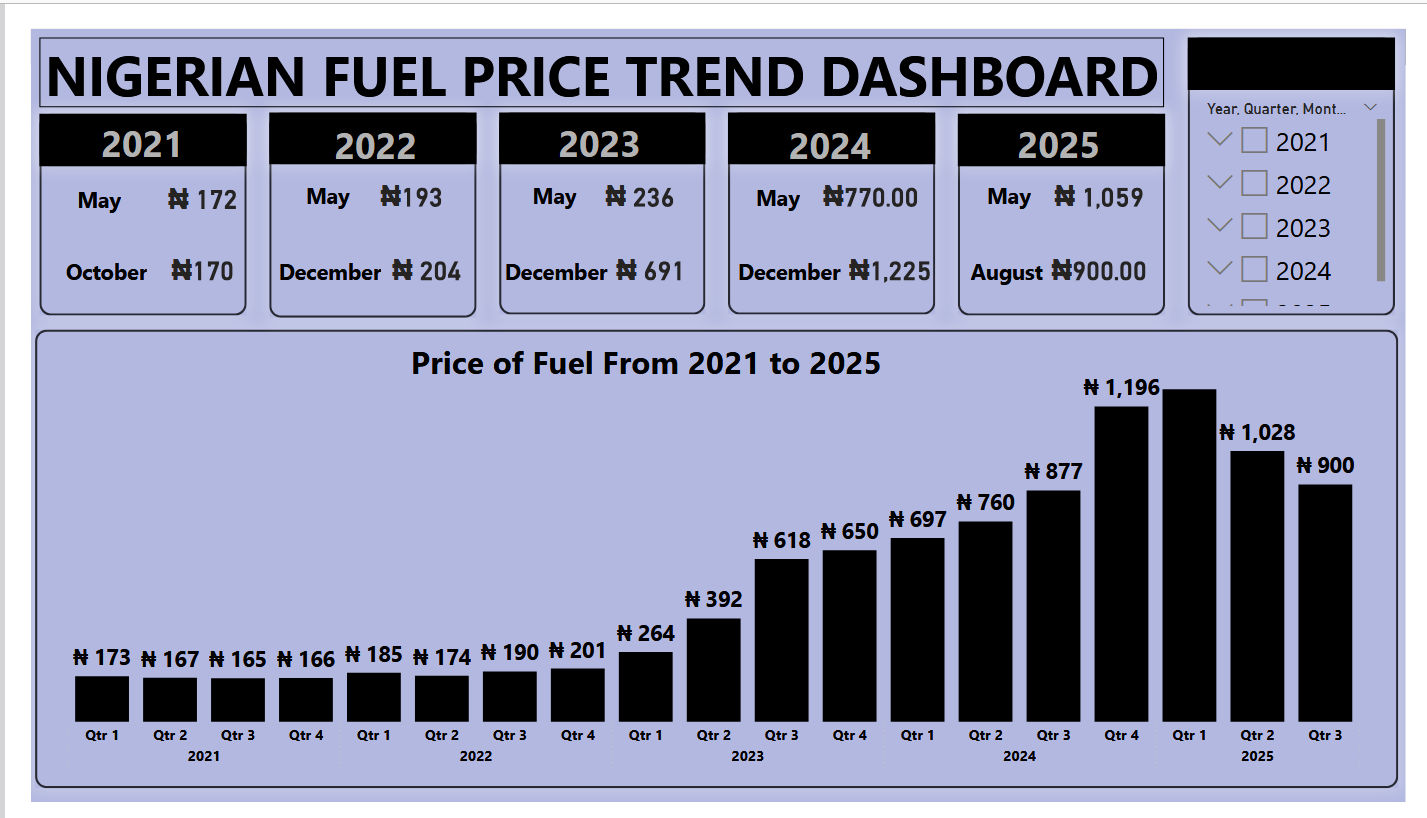

This screenshot's page, from the dashboard's own definition file:
{"tool":"powerbi","page":{"name":"Page 1","canvas":[1280,720],"ordinal":0},"visuals":[{"type":"shape","box":[4,280,1268.8,426.9],"z":0},{"type":"shape","box":[8.1,79.3,192.7,187.8],"z":1000},{"type":"shape","box":[221.8,79.3,192.7,189.4],"z":2000},{"type":"shape","box":[435.6,77.7,192.7,187.8],"z":3000},{"type":"shape","box":[649.3,77.7,192.7,187.8],"z":4000},{"type":"shape","box":[863,79.3,192.7,187.8],"z":5000},{"type":"shape","box":[1077.5,8.1,192.4,259.2],"z":6000},{"type":"shape","box":[1077.5,8.1,192.4,48.6],"z":7000},{"type":"shape","box":[863,79.3,192.7,48.6],"z":8000},{"type":"shape","box":[649.3,77.7,192.7,48.6],"z":9000},{"type":"shape","box":[435.6,77.7,192.7,48.6],"z":10000},{"type":"shape","box":[221.8,77.7,192.7,48.6],"z":11000},{"type":"shape","box":[8.1,79.3,192.7,48.6],"z":12000},{"type":"clusteredColumnChart","fields":{"Category":["Motor Spirit.Date.Variation.Date Hierarchy.Year","Motor Spirit.Date.Variation.Date Hierarchy.Quarter","Motor Spirit.Date.Variation.Date Hierarchy.Month","Motor Spirit.Date.Variation.Date Hierarchy.Day"],"Y":["Avg(Motor Spirit.Fuel Price)"]},"box":[11.3,286.6,1250,412.9],"z":13000},{"type":"card","fields":{"Values":["Avg(May-2021.Fuel Price)"]},"box":[99.2,127.6,121.5,60.8],"z":14000},{"type":"card","fields":{"Values":["Avg(October-2021.Fuel Price)"]},"box":[99.2,194.4,121.5,60.8],"z":15000},{"type":"card","fields":{"Values":["Avg(May-2022.Fuel Price)"]},"box":[293.7,125.6,121.5,60.8],"z":16000},{"type":"card","fields":{"Values":["Avg(December-2022.Fuel Price)"]},"box":[307.8,194.4,121.5,60.8],"z":17000},{"type":"card","fields":{"Values":["Avg(May-2023.Fuel Price)"]},"box":[506.3,125.6,121.5,60.8],"z":18000},{"type":"card","fields":{"Values":["Avg(December-2023.Fuel Price)"]},"box":[516.5,194.4,121.5,60.8],"z":19000},{"type":"card","fields":{"Values":["Avg(May-2024.Fuel Price)"]},"box":[721,125.6,121.5,60.8],"z":20000},{"type":"card","fields":{"Values":["Avg(December-2024.Fuel Price)"]},"box":[739.2,194.4,121.5,60.8],"z":21000},{"type":"card","fields":{"Values":["Avg(May-2025.Fuel Price)"]},"box":[933.7,125.6,121.5,60.8],"z":22000},{"type":"card","fields":{"Values":["Avg(August-2025.Fuel Price)"]},"box":[933.7,194.4,121.5,60.8],"z":23000},{"type":"actionButton","box":[10.1,79,188.4,46.6],"z":24000},{"type":"actionButton","box":[435.4,79,188.4,46.6],"z":25000},{"type":"actionButton","box":[226.8,81,188.4,46.6],"z":26000},{"type":"actionButton","box":[650.1,81,188.4,46.6],"z":27000},{"type":"actionButton","box":[864.8,133.7,91.1,40.5],"z":28000},{"type":"actionButton","box":[862.8,204.6,91.1,40.5],"z":29000},{"type":"actionButton","box":[650.1,135.7,91.1,40.5],"z":30000},{"type":"actionButton","box":[445.6,133.7,83,40.5],"z":31000},{"type":"actionButton","box":[234.9,133.7,83,40.5],"z":32000},{"type":"actionButton","box":[222.8,204.6,111.4,40.5],"z":33000},{"type":"actionButton","box":[22.3,137.7,83,40.5],"z":34000},{"type":"actionButton","box":[22.3,204.6,97.2,40.5],"z":35000},{"type":"actionButton","box":[433.4,204.6,111.4,40.5],"z":36000},{"type":"actionButton","box":[650.1,204.6,111.4,40.5],"z":37000},{"type":"shape","box":[8.1,8.1,1047.1,64.8],"z":38000},{"type":"slicer","fields":{"Values":["Motor Spirit.Date.Variation.Date Hierarchy.Year","Motor Spirit.Date.Variation.Date Hierarchy.Quarter","Motor Spirit.Date.Variation.Date Hierarchy.Month","Motor Spirit.Date.Variation.Date Hierarchy.Day"]},"box":[1081.5,60.8,184.3,202.5],"z":39000},{"type":"actionButton","box":[318,279.5,510.4,58.7],"z":40000},{"type":"actionButton","box":[863,80,188,47],"z":40001}]}

Visuals, with their boxes in screenshot pixels (x1, y1, x2, y2), scaled from the page's 1280x720 canvas onto the 1427x818 screenshot:
shape: bbox=[4, 318, 1419, 803]
shape: bbox=[9, 90, 224, 303]
shape: bbox=[247, 90, 462, 305]
shape: bbox=[486, 88, 700, 302]
shape: bbox=[724, 88, 939, 302]
shape: bbox=[962, 90, 1177, 303]
shape: bbox=[1201, 9, 1416, 304]
shape: bbox=[1201, 9, 1416, 64]
shape: bbox=[962, 90, 1177, 145]
shape: bbox=[724, 88, 939, 143]
shape: bbox=[486, 88, 700, 143]
shape: bbox=[247, 88, 462, 143]
shape: bbox=[9, 90, 224, 145]
clusteredColumnChart - Motor Spirit.Date.Variation.Date Hierarchy.Year x Motor Spirit.Date.Variation.Date Hierarchy.Quarter: bbox=[13, 326, 1406, 795]
card - Avg(May-2021.Fuel Price): bbox=[111, 145, 246, 214]
card - Avg(October-2021.Fuel Price): bbox=[111, 221, 246, 290]
card - Avg(May-2022.Fuel Price): bbox=[327, 143, 463, 212]
card - Avg(December-2022.Fuel Price): bbox=[343, 221, 479, 290]
card - Avg(May-2023.Fuel Price): bbox=[564, 143, 700, 212]
card - Avg(December-2023.Fuel Price): bbox=[576, 221, 711, 290]
card - Avg(May-2024.Fuel Price): bbox=[804, 143, 939, 212]
card - Avg(December-2024.Fuel Price): bbox=[824, 221, 960, 290]
card - Avg(May-2025.Fuel Price): bbox=[1041, 143, 1176, 212]
card - Avg(August-2025.Fuel Price): bbox=[1041, 221, 1176, 290]
actionButton: bbox=[11, 90, 221, 143]
actionButton: bbox=[485, 90, 695, 143]
actionButton: bbox=[253, 92, 463, 145]
actionButton: bbox=[725, 92, 935, 145]
actionButton: bbox=[964, 152, 1066, 198]
actionButton: bbox=[962, 232, 1063, 278]
actionButton: bbox=[725, 154, 826, 200]
actionButton: bbox=[497, 152, 589, 198]
actionButton: bbox=[262, 152, 354, 198]
actionButton: bbox=[248, 232, 373, 278]
actionButton: bbox=[25, 156, 117, 202]
actionButton: bbox=[25, 232, 133, 278]
actionButton: bbox=[483, 232, 607, 278]
actionButton: bbox=[725, 232, 849, 278]
shape: bbox=[9, 9, 1176, 83]
slicer - Motor Spirit.Date.Variation.Date Hierarchy.Year x Motor Spirit.Date.Variation.Date Hierarchy.Quarter: bbox=[1206, 69, 1411, 299]
actionButton: bbox=[355, 318, 924, 384]
actionButton: bbox=[962, 91, 1172, 144]
